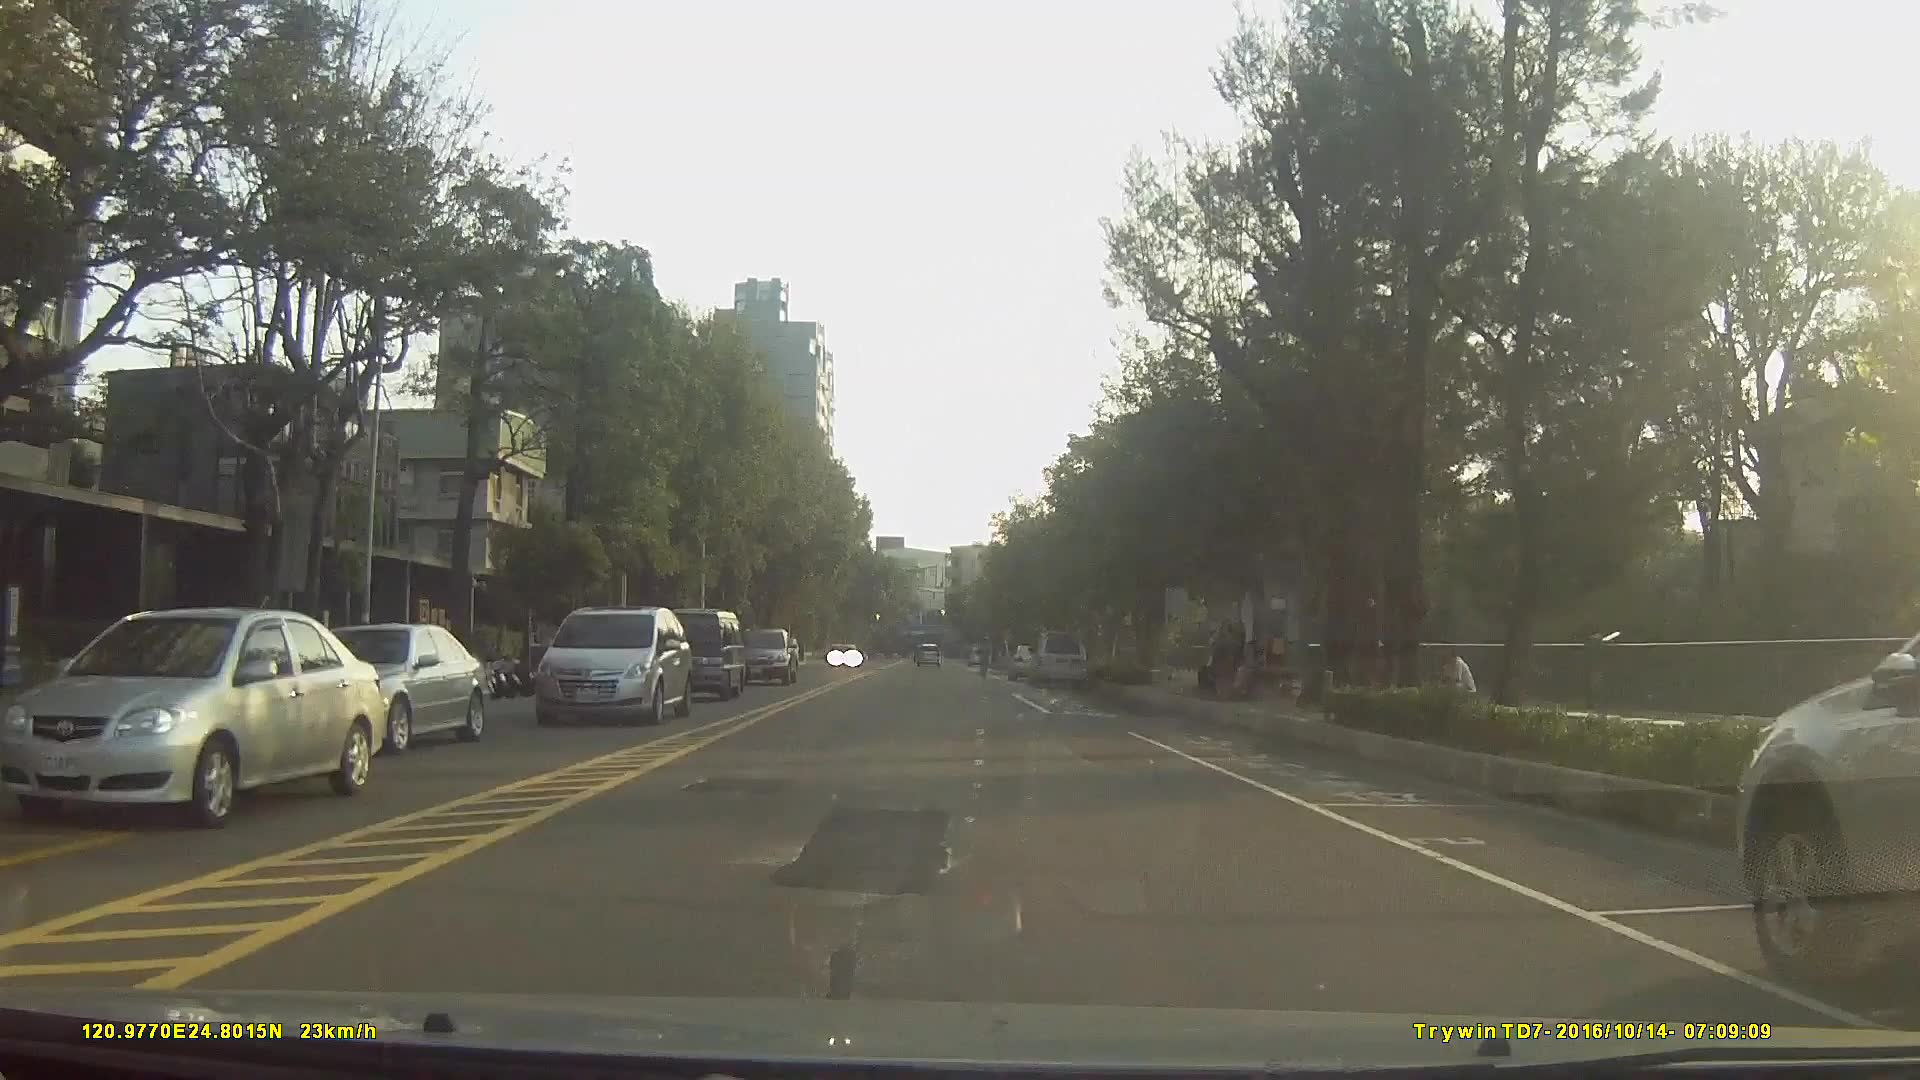rider: (973, 634, 993, 679)
vehicle: (0, 605, 384, 824), (1740, 640, 1918, 974), (296, 622, 484, 752), (528, 604, 691, 724), (644, 602, 745, 696), (729, 625, 795, 683), (1024, 624, 1085, 685), (1005, 641, 1045, 682), (916, 641, 941, 664)
